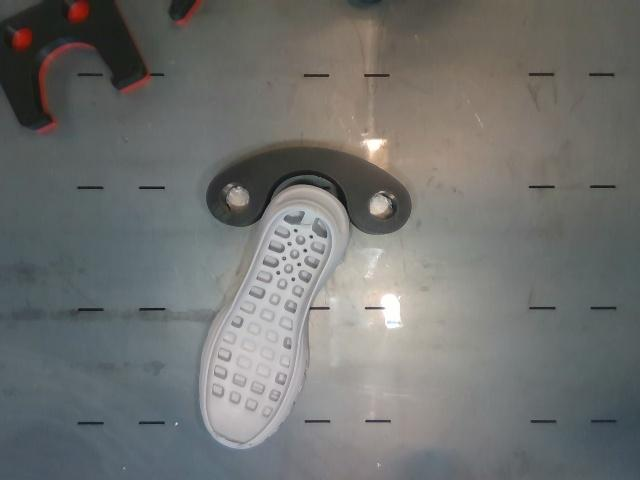shoes: (206, 207, 332, 444)
